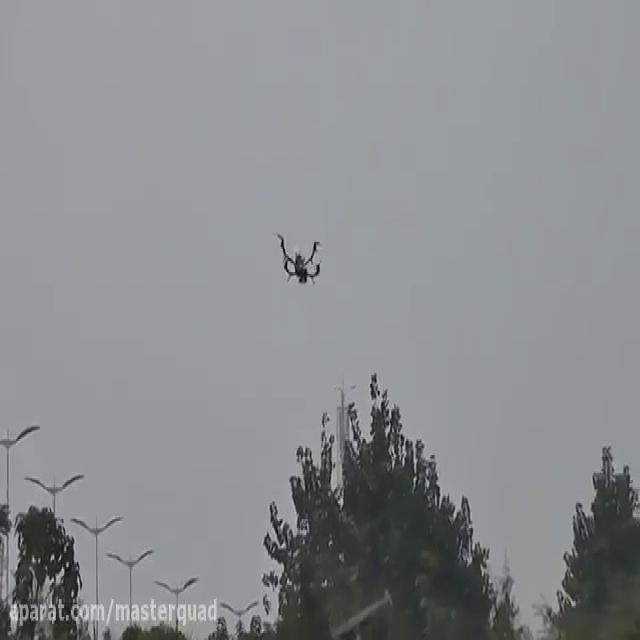drone: (272, 228, 324, 284)
